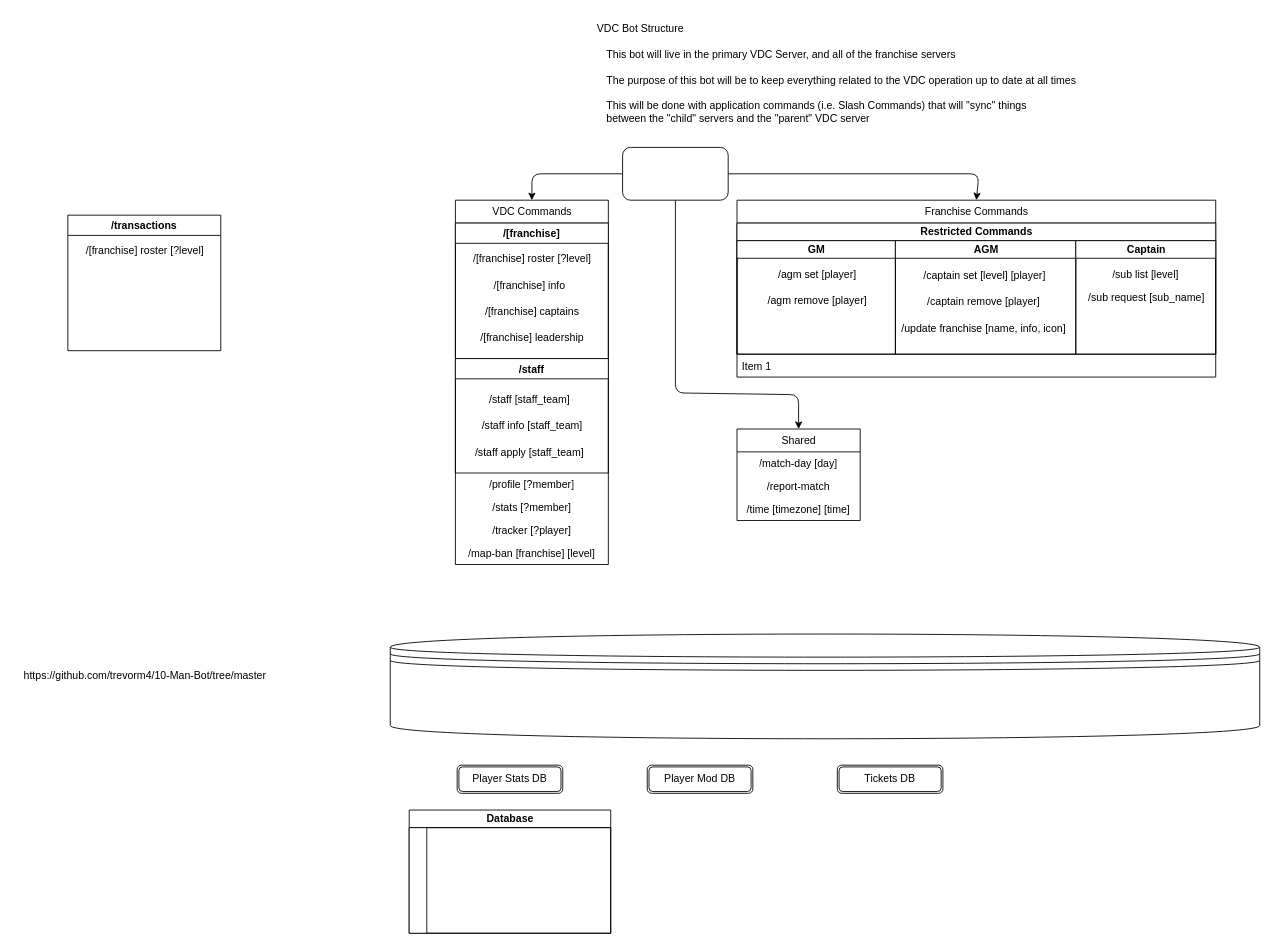
Image size: 1275x949. Some labels were removed from this diagram. The shapes that lost their labels are listed below. From the top down, each one's centre as x and y in pixels, then its label:
At point 675,173: "VDC Bot".
At point 824,686: "Discord ID <--> Valorant ID".
At point 509,880: "Season [x]".
